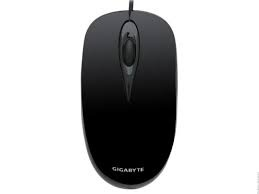mouse: (73, 5, 191, 194)
